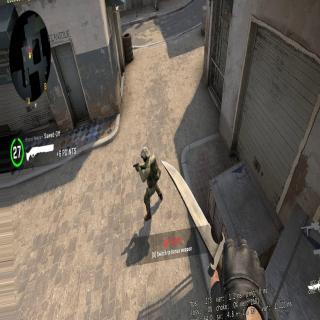CT-Body: (134, 145, 166, 203)
CT-Head: (141, 149, 149, 161)
